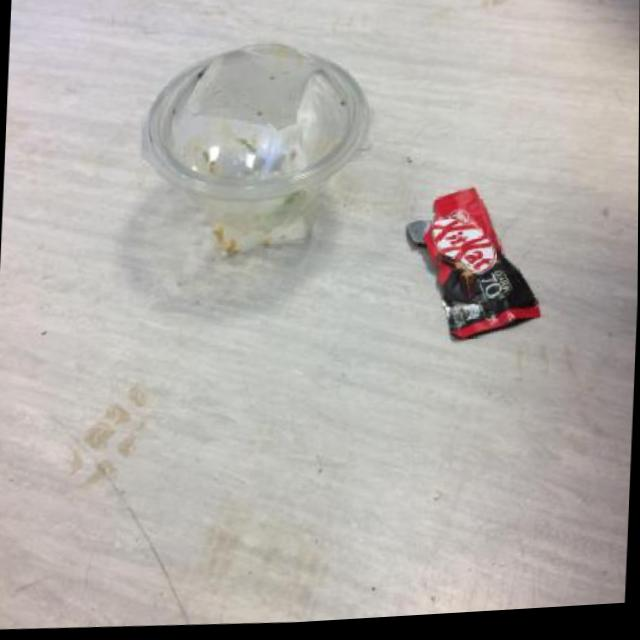plastic: (132, 26, 382, 271), (400, 178, 548, 349)
